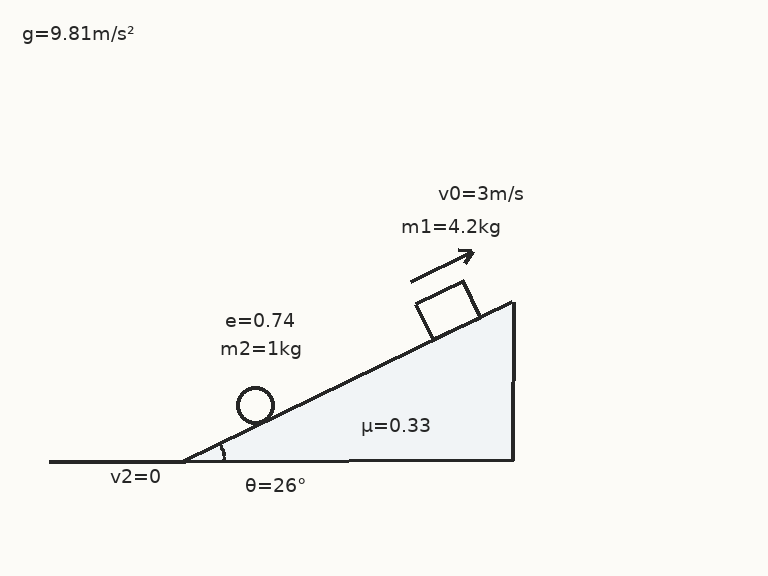ball: (234, 384, 276, 426)
block: (413, 279, 482, 342)
ramp: (182, 299, 515, 463)
